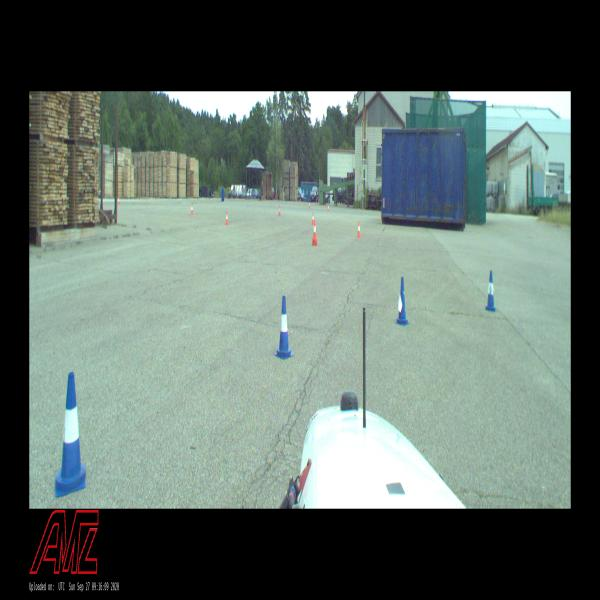blue_cone: (55, 372, 86, 496), (274, 296, 292, 359), (395, 278, 410, 325), (485, 271, 495, 311)
orange_cone: (312, 226, 317, 245), (357, 222, 361, 237), (190, 204, 194, 215), (278, 206, 281, 216), (226, 212, 228, 225), (312, 213, 314, 224), (118, 195, 120, 204), (309, 201, 310, 209), (328, 204, 329, 212)
